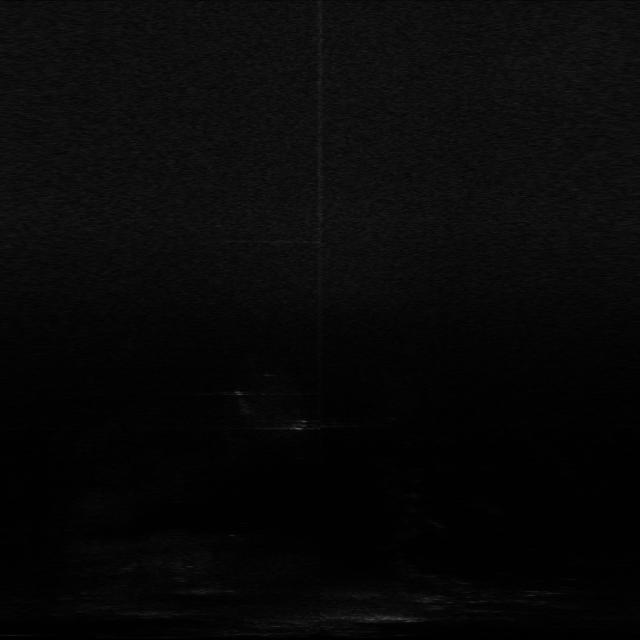rov: (287, 418, 312, 432)
